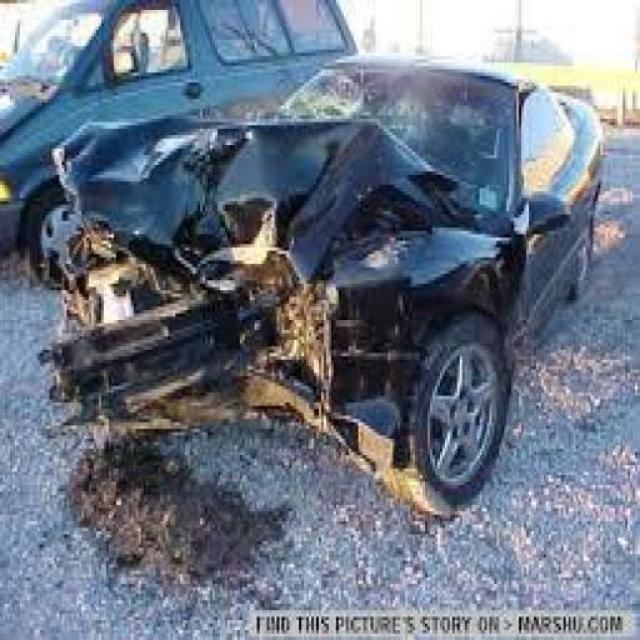crack: (282, 63, 379, 120), (448, 95, 498, 130)
crush: (40, 64, 526, 471)
